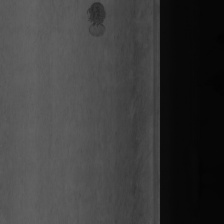oil_spot: (86, 2, 106, 40)
